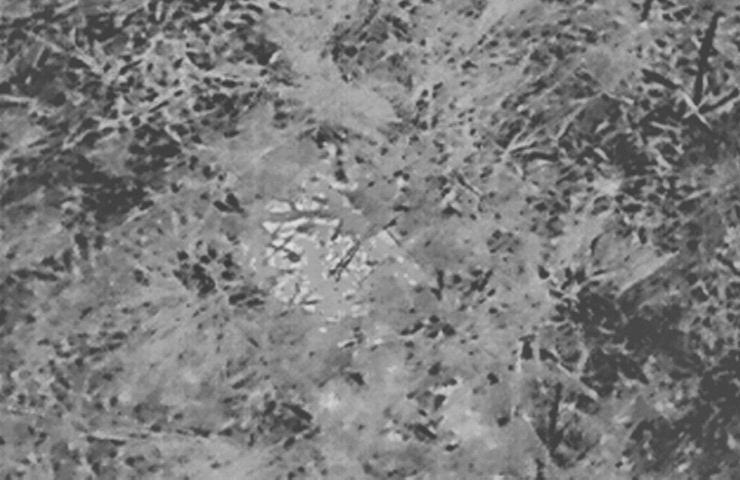landmines: (248, 170, 402, 324)
